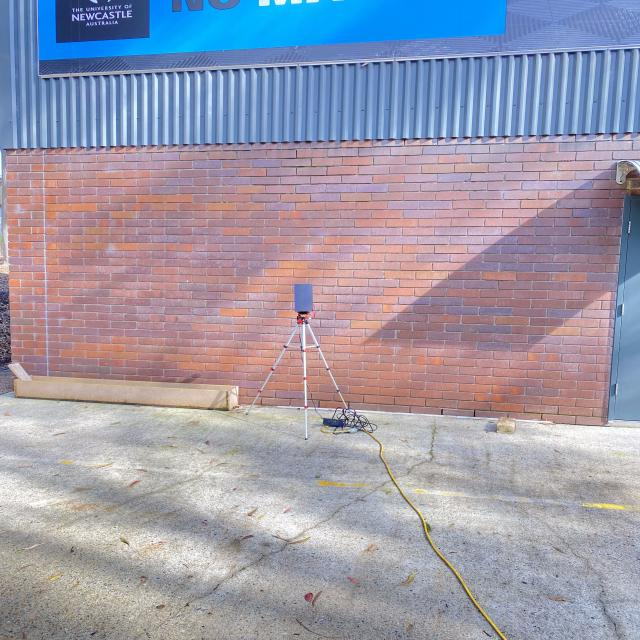matrix: (289, 282, 319, 315)
